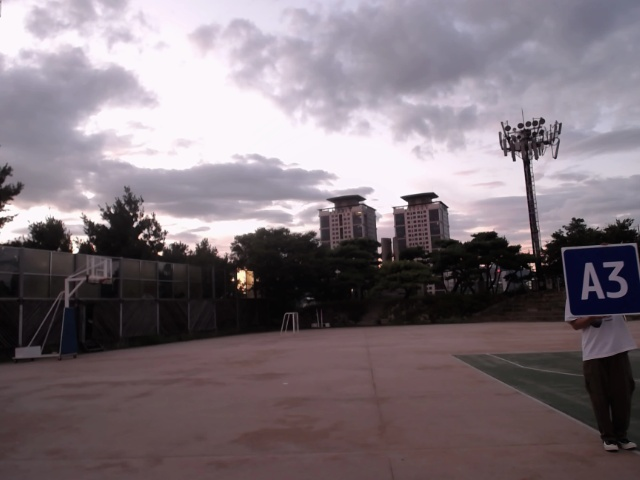delivery_a3: (562, 246, 639, 317)
